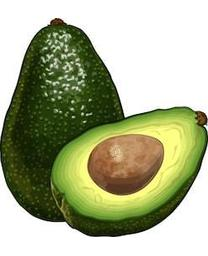avocado: (0, 18, 126, 222), (51, 107, 207, 238)
